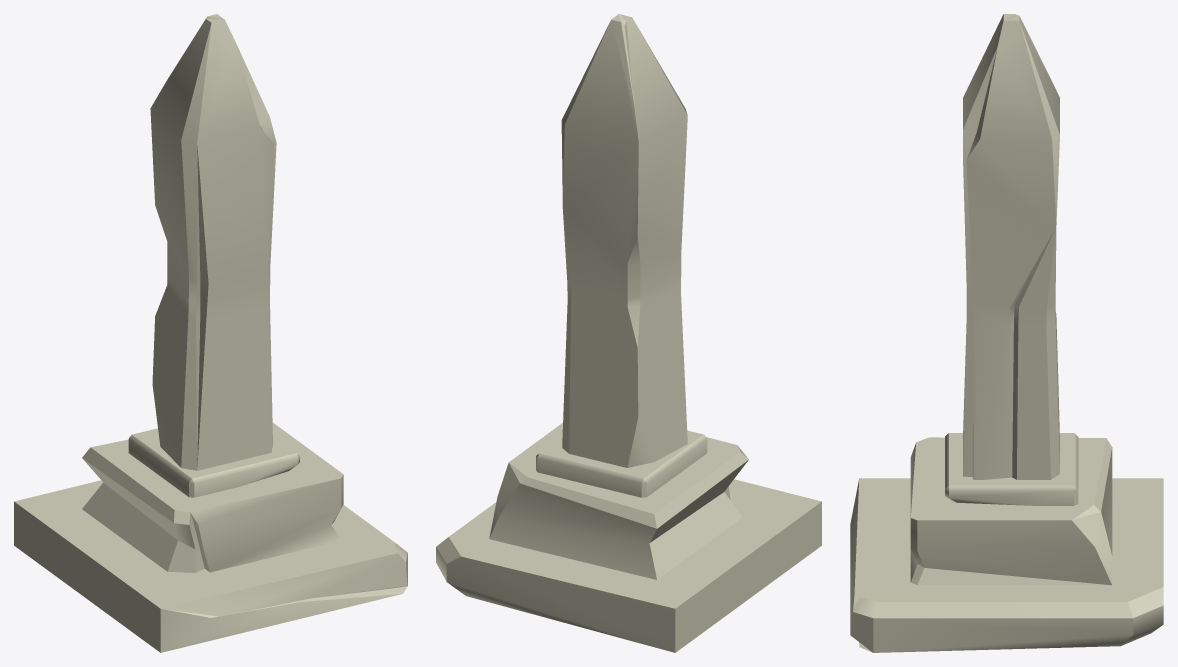
The model's file is SM_Stone_Deco_01.fbx.
3 renders of one model, left to right at view 1: azimuth 30°, elevation 25°; view 2: azimuth 150°, elevation 25°; view 3: azimuth 270°, elevation 25°, orthographic. The views are drawn at different scales.
Visible parts, largest first — view 1: SM_Stone_Deco_01; view 2: SM_Stone_Deco_01; view 3: SM_Stone_Deco_01.
Part boxes in pixels (bbox=[...]): SM_Stone_Deco_01: bbox=[14, 14, 407, 652]; SM_Stone_Deco_01: bbox=[436, 14, 821, 652]; SM_Stone_Deco_01: bbox=[850, 14, 1163, 652].
Size of the model in its own units: 107 by 222 by 110.
